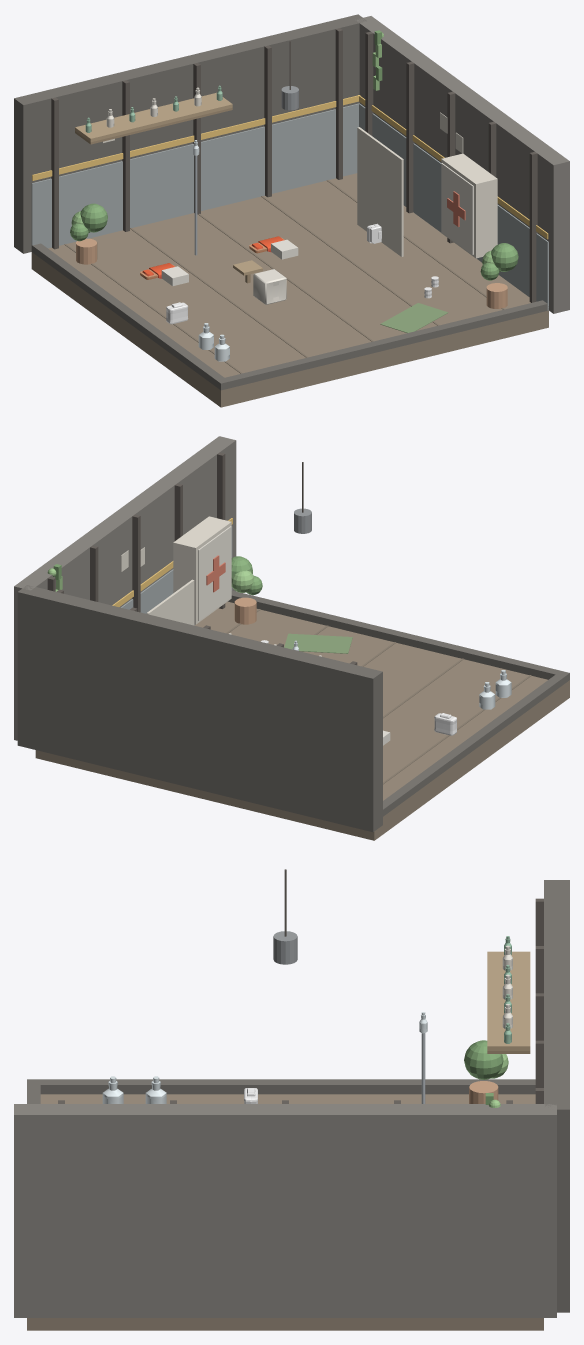
File: infirmary.glb
The picture shows the model from 3 angles, top to bottom: view 1: azimuth 30°, elevation 25°; view 2: azimuth 150°, elevation 25°; view 3: azimuth 270°, elevation 25°; orthographic projection. The views are drawn at different scales.
Visible parts, largest first — view 1: floor, wallY, tilesY, wallX, tilesX, screen, curbY, curbX, cab, shelf, lineY, cabdoor (+16 smaller); view 2: wallY, floor, wallX, curbY, curbX, cab, cabdoor, screen, moss, tilesX, bx0, bx-2 (+1 smaller); view 3: wallX, floor, wallY, curbX, shelf, leaf.005, lamp.
Boxes of the visible parts, x1,y1,x2,y2 form: floor: (31, 173, 548, 407); wallY: (14, 14, 366, 253); tilesY: (31, 103, 358, 248); wallX: (355, 16, 569, 313); tilesX: (358, 103, 548, 310); screen: (357, 127, 403, 256); curbY: (216, 300, 548, 390); curbX: (31, 243, 229, 390); cab: (441, 153, 497, 258); shelf: (75, 92, 232, 141); lineY: (32, 95, 360, 180); cabdoor: (441, 163, 473, 254); wallY: (17, 585, 382, 832); floor: (35, 601, 569, 840); wallX: (14, 436, 236, 740); curbY: (228, 590, 569, 683); curbX: (383, 671, 569, 816); cab: (173, 516, 231, 624); cabdoor: (198, 526, 231, 620); screen: (146, 579, 194, 625); moss: (284, 633, 352, 653); tilesX: (121, 527, 232, 625); bx0: (132, 514, 140, 612); bx-2: (217, 452, 225, 608); wallX: (14, 1104, 556, 1317); floor: (27, 1094, 543, 1330); wallY: (544, 880, 569, 1312); curbX: (27, 1079, 535, 1094); shelf: (487, 951, 530, 1050); leaf.005: (464, 1040, 503, 1079); lamp: (273, 931, 297, 964).
Size of the model in its own units: 6.45 by 4.5 by 6.45.
Materials: 35 (2 with a texture image).
